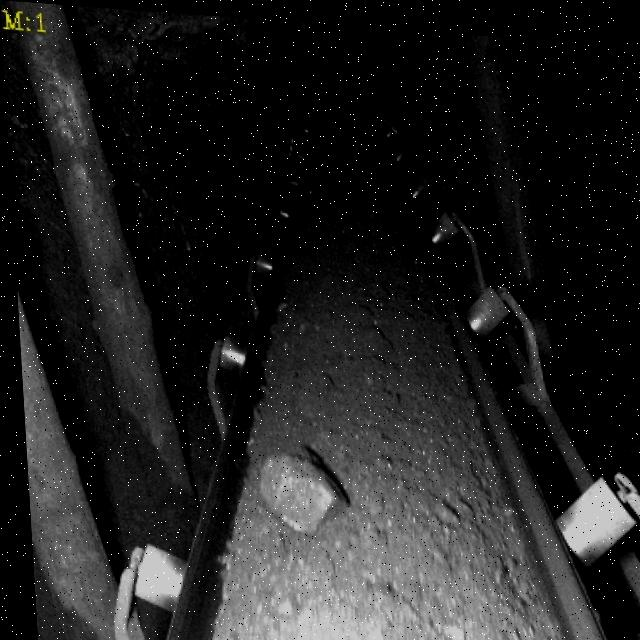large_sized_coal: (252, 443, 342, 530)
